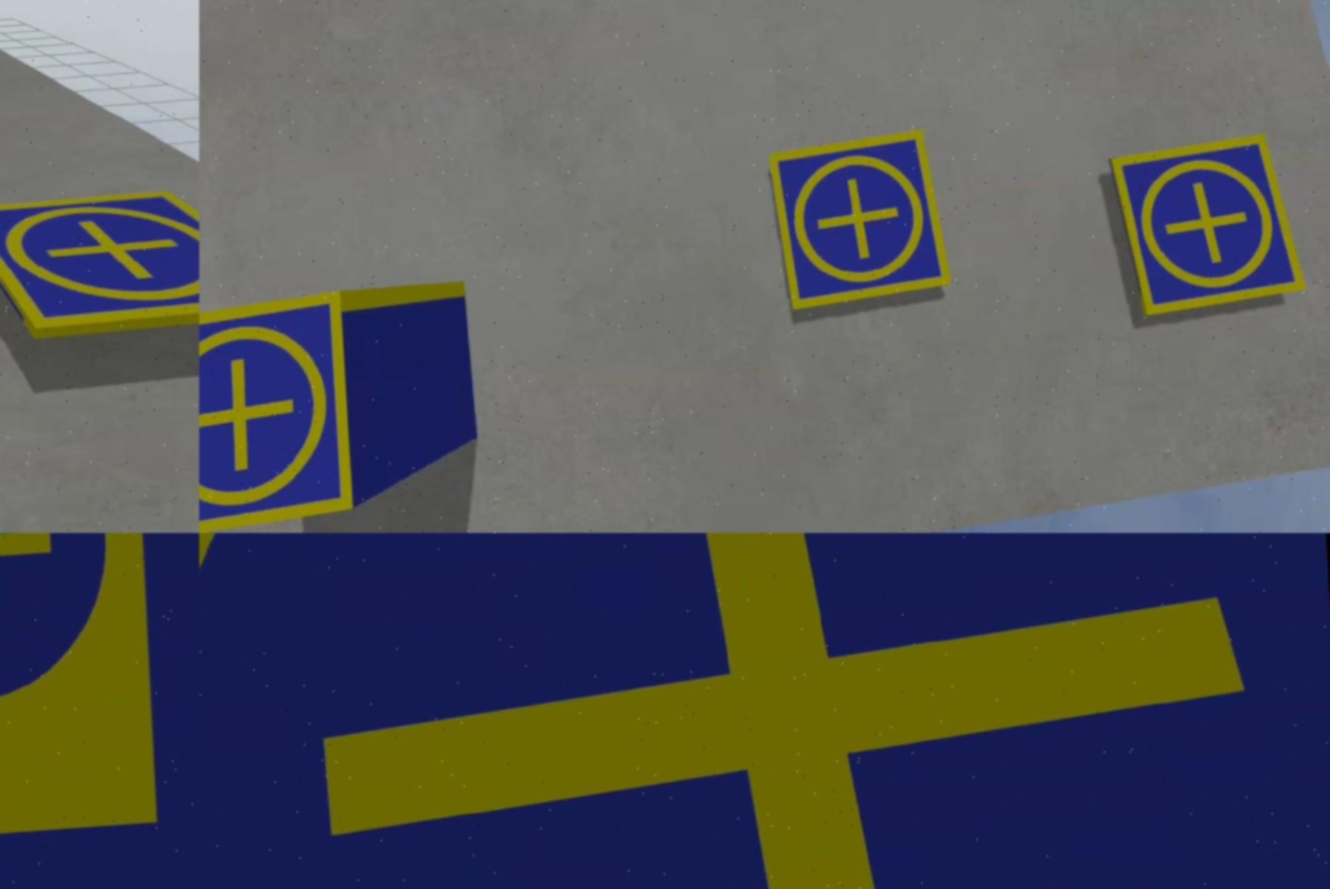large_base: (1, 534, 200, 889)
small_base: (200, 534, 1330, 889), (200, 290, 358, 534), (1110, 133, 1310, 319), (768, 130, 956, 315), (1, 180, 200, 349)
